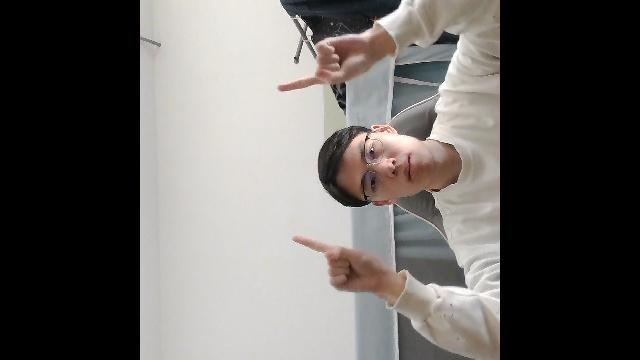one: (285, 231, 395, 301), (273, 28, 383, 91)
